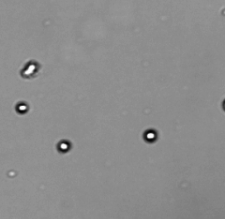Living Cell: (20, 59, 40, 78), (143, 129, 159, 142), (15, 101, 29, 113), (57, 140, 71, 152)
